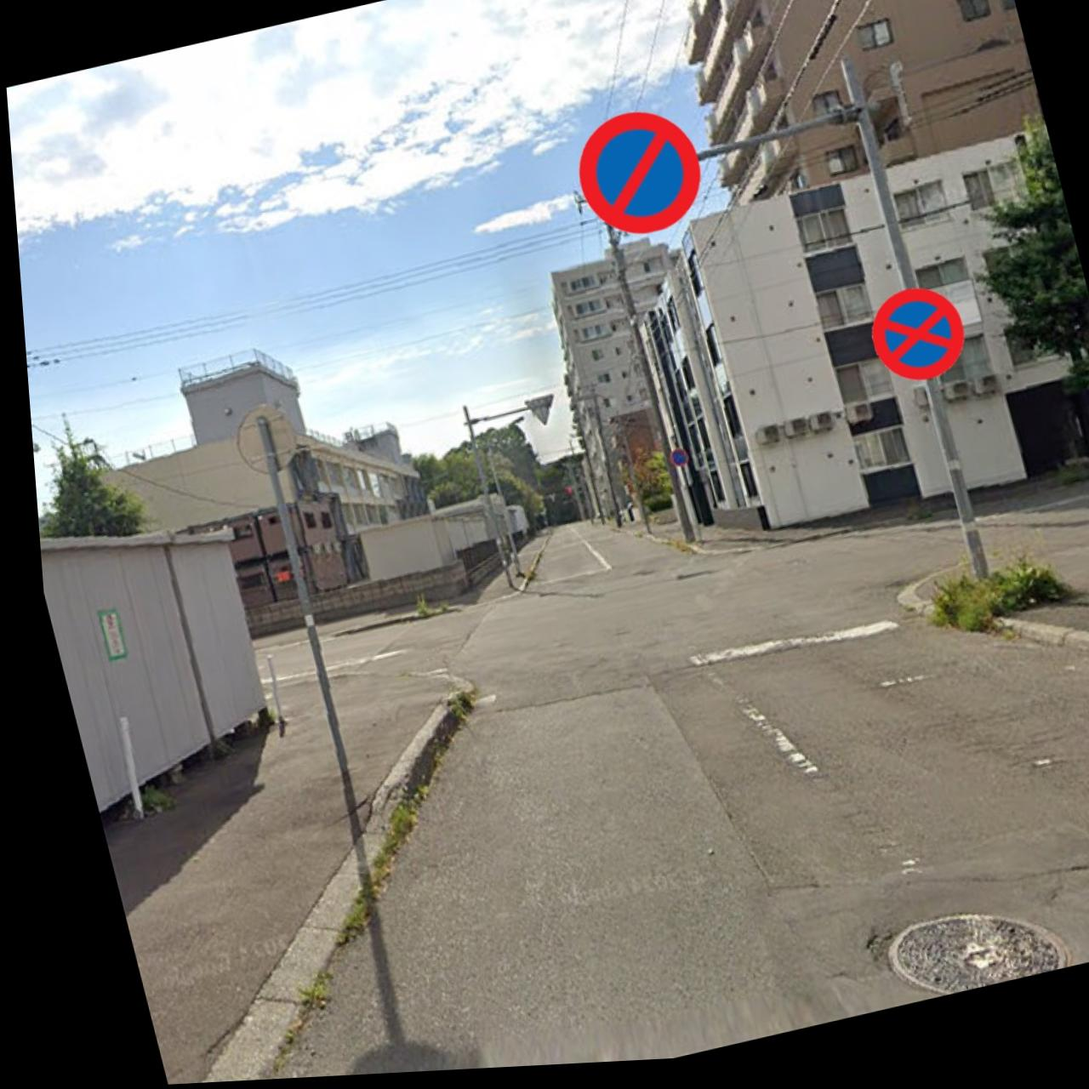stop_sign: (857, 279, 979, 396)
